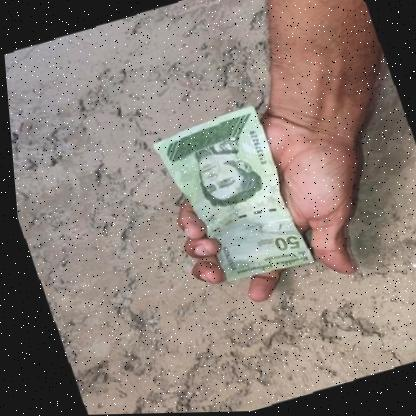fifty-front-vef: (143, 102, 314, 295)
